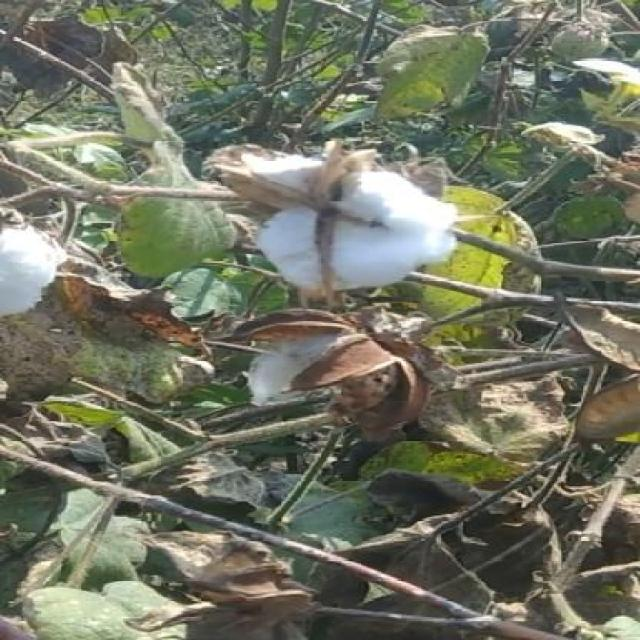cotton_ready: (202, 124, 458, 324)
